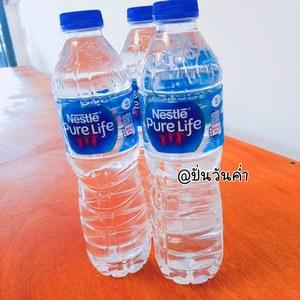bottle: (47, 5, 156, 280), (133, 0, 229, 290), (104, 3, 195, 243)
